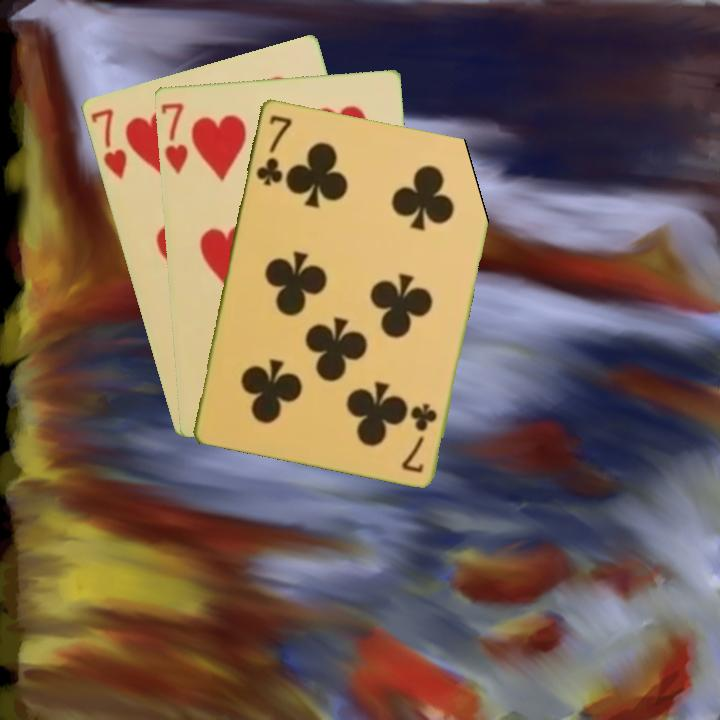7c: (252, 111, 294, 188), (398, 399, 440, 475)
7h: (86, 104, 130, 182), (157, 99, 191, 176)
